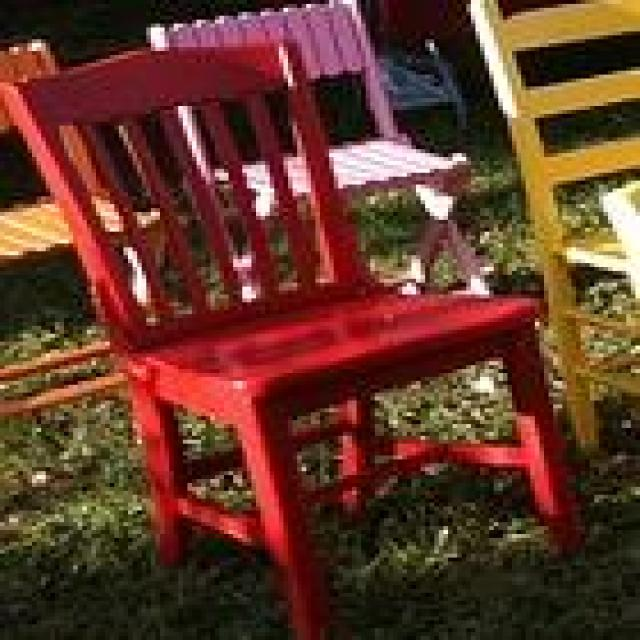chair: (6, 38, 586, 640)
